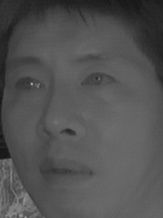eye: (80, 68, 116, 92), (11, 74, 44, 96)
mouth: (34, 154, 94, 190)
